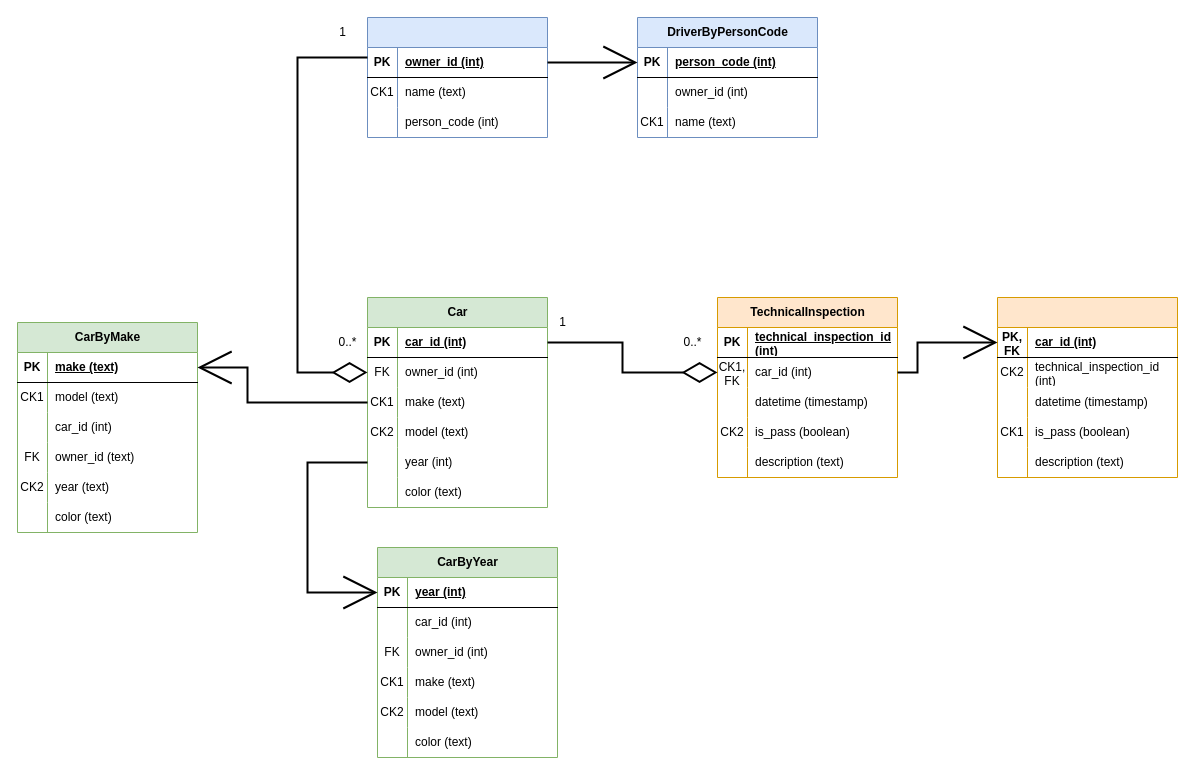
This 1195x775 diagram has some shape labels left out. The shapes that lost their labels are listed below. From the top down, each one's box as (x1, y1, x2, y2) in pixels, then its label:
(366, 16, 548, 138): Driver
(996, 296, 1178, 478): TechnicalInspectionByCarId
